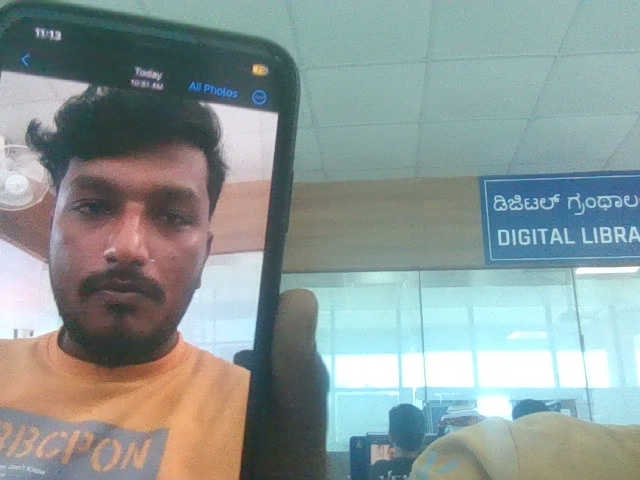fake: (22, 59, 241, 370)
